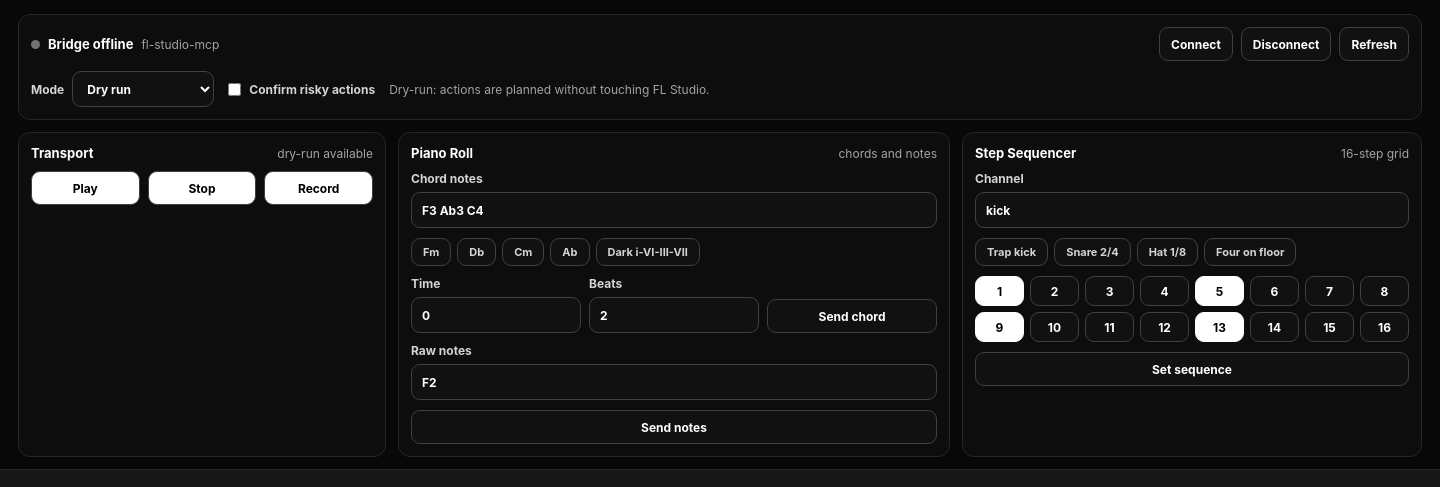
FLStudioControlPanel › labels offline control as dry-run and explains live-mode safety
Expected: the text "Bridge offline" is shown, [48,36,133,52]
Expected: the text "dry-run available" is shown, [277,146,373,161]
Select "Live control" in the dropdown labelled "Mode" at [143, 89], box [72,71,214,107]
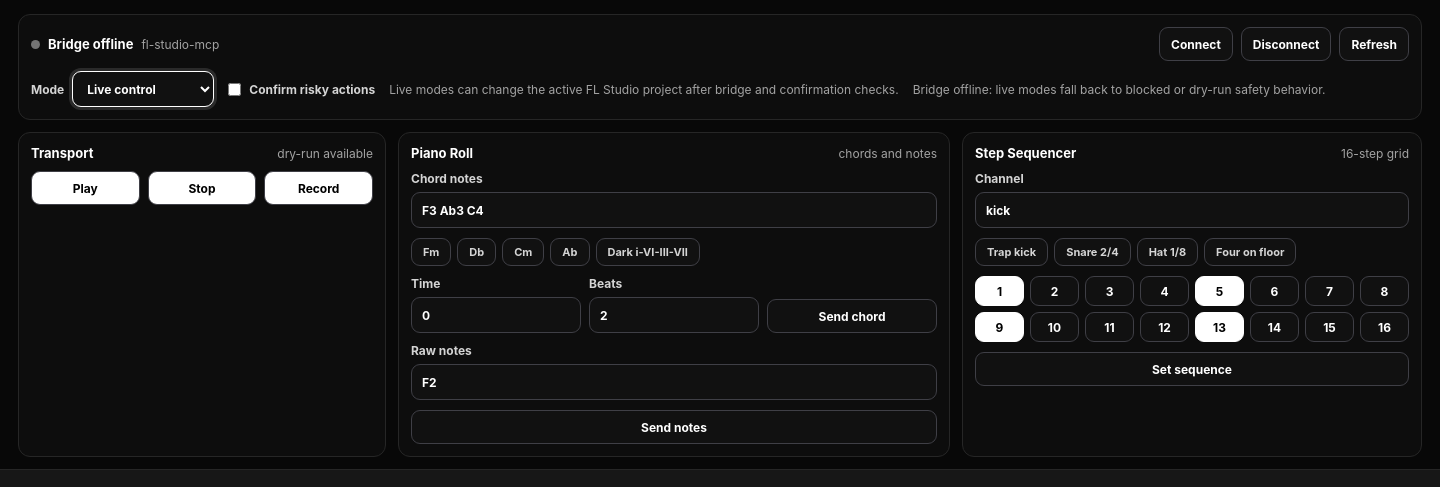
Expected: the text "Bridge offline: live modes fall back" is shown, [913,82,1325,96]
Expected: the text "Live modes can change the active FL Studio project" is shown, [389,82,899,96]
